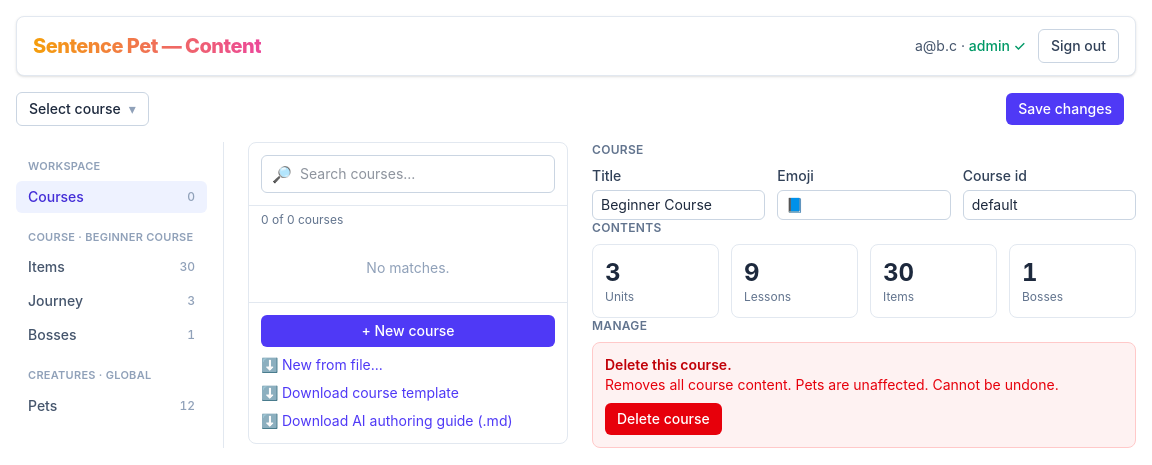
Test: AdminShell › saveCourse rejection leaves live store unchanged and surfaces error text
Click the button "Save changes" at (1065, 109), box top-left (1006, 93), bottom-right (1124, 125)
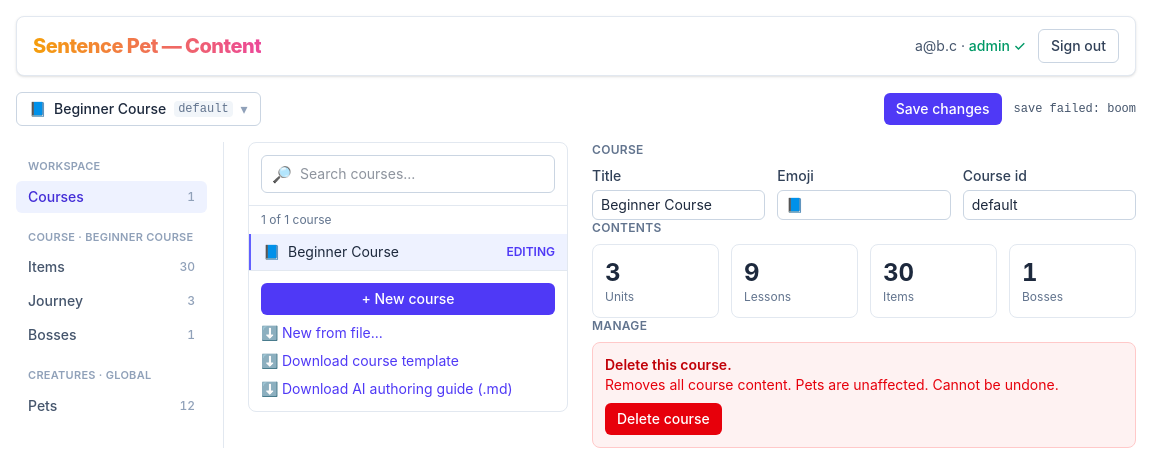
Check: the text "save failed: boom" is shown, box top-left (1014, 101), bottom-right (1136, 117)
